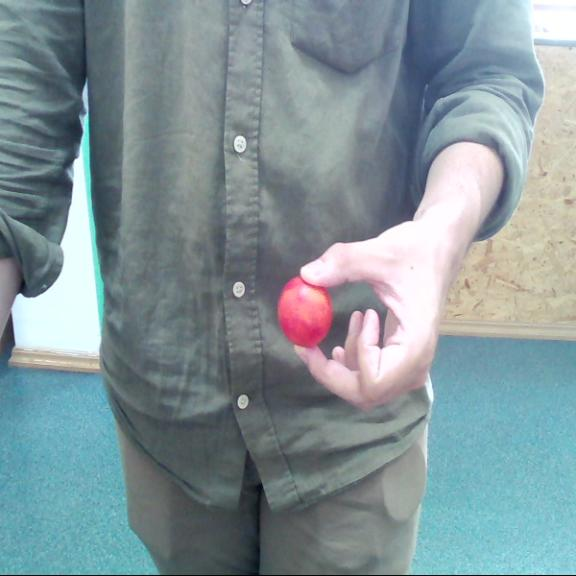ball: (278, 275, 333, 347)
